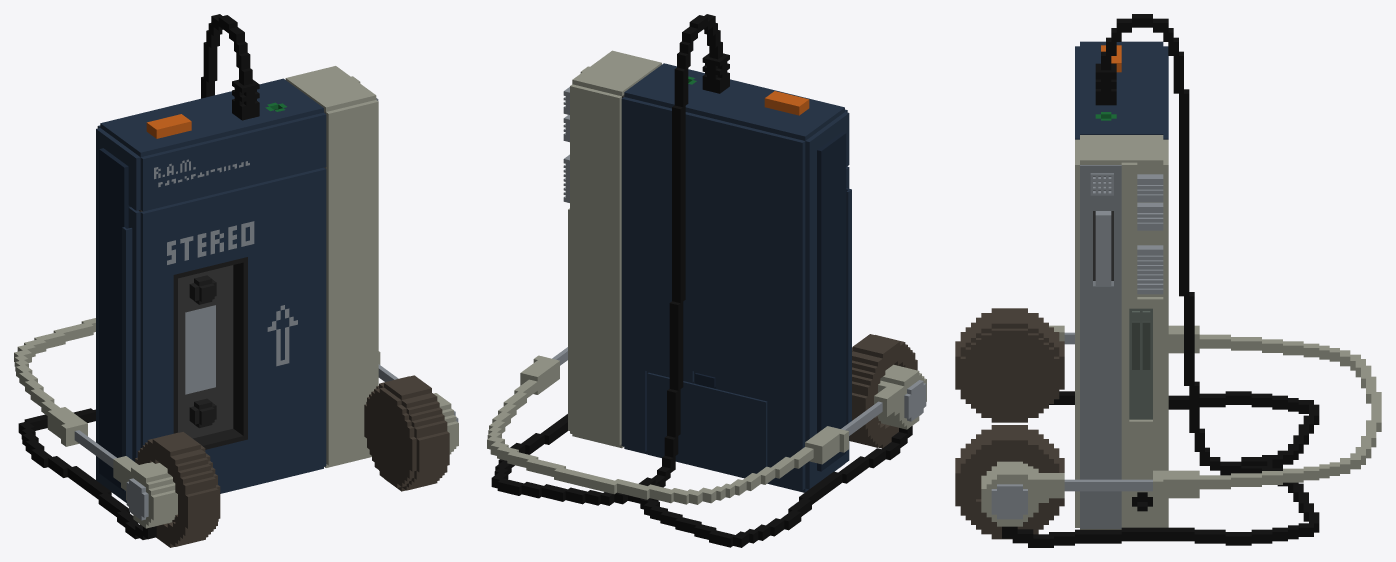
Rendered from BJ01-Blue.glb.
The picture shows the model from 3 angles, left to right: view 1: azimuth 30°, elevation 25°; view 2: azimuth 150°, elevation 25°; view 3: azimuth 270°, elevation 25°; orthographic projection. The views are drawn at different scales.
Parts seen in each view (by area): view 1: BJ01-Blue; view 2: BJ01-Blue; view 3: BJ01-Blue.
Boxes of the visible parts, bbox=[...] form: BJ01-Blue: bbox=[14, 14, 458, 547]; BJ01-Blue: bbox=[487, 14, 926, 547]; BJ01-Blue: bbox=[955, 14, 1381, 547].
Size of the model in its own units: 14.4 by 19.4 by 16.4.
